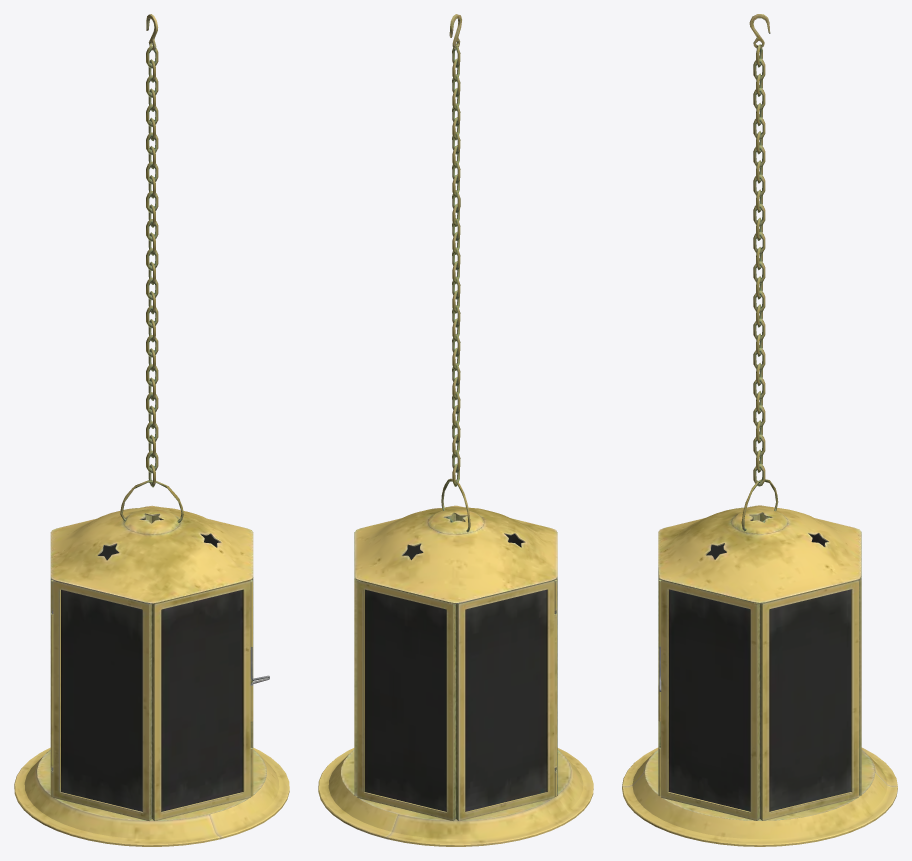
File: brass_diya_lantern.glb
3 views of the same model, side by side, from view 1: azimuth 30°, elevation 25°; view 2: azimuth 150°, elevation 25°; view 3: azimuth 270°, elevation 25° (orthographic).
Parts seen in each view (by area): view 1: brass_diya_lantern, brass_diya_lantern_connection; view 2: brass_diya_lantern, brass_diya_lantern_connection; view 3: brass_diya_lantern, brass_diya_lantern_connection.
Part boxes in pixels (box(x1,y1,x2,y2)): brass_diya_lantern: box(14, 505, 289, 846); brass_diya_lantern_connection: box(120, 14, 183, 522); brass_diya_lantern: box(318, 505, 593, 846); brass_diya_lantern_connection: box(441, 14, 470, 531); brass_diya_lantern: box(622, 505, 897, 846); brass_diya_lantern_connection: box(741, 14, 778, 530).
Bounding box in the file's own units: 0.123 × 0.3807 × 0.123.
Materials: 3 (3 with a texture image).
